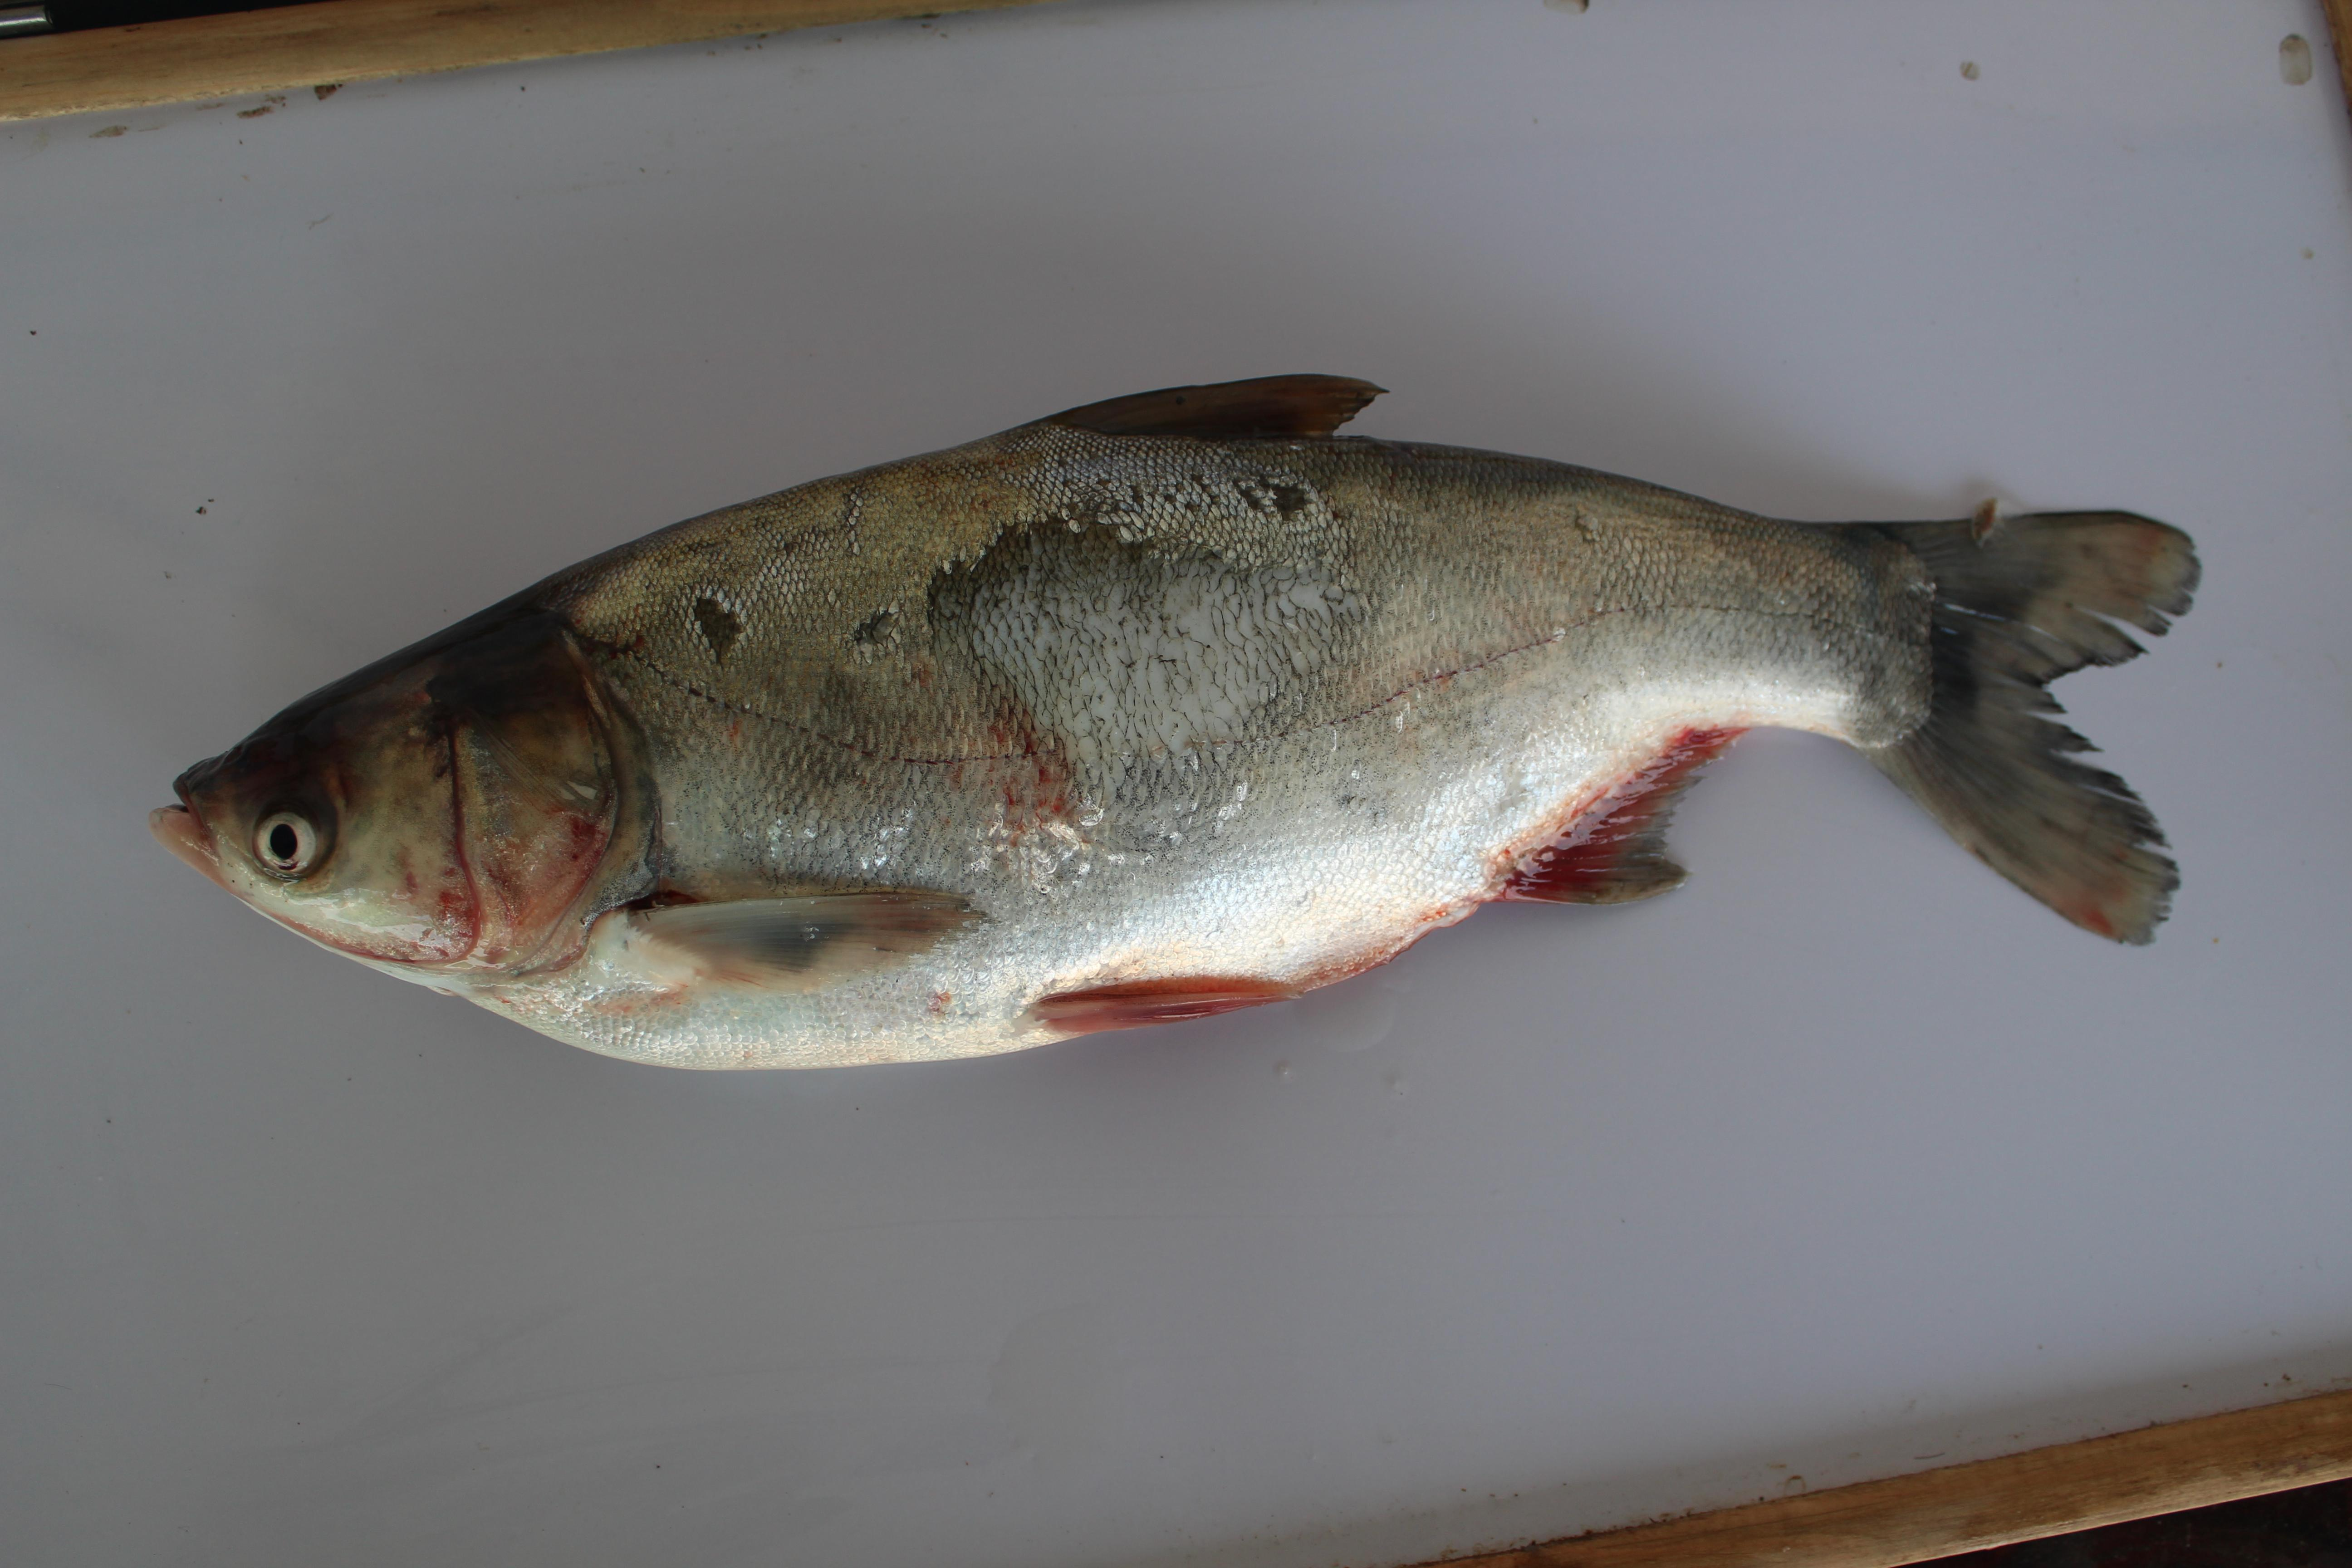Silver Carp: (150, 376, 2182, 1074)
